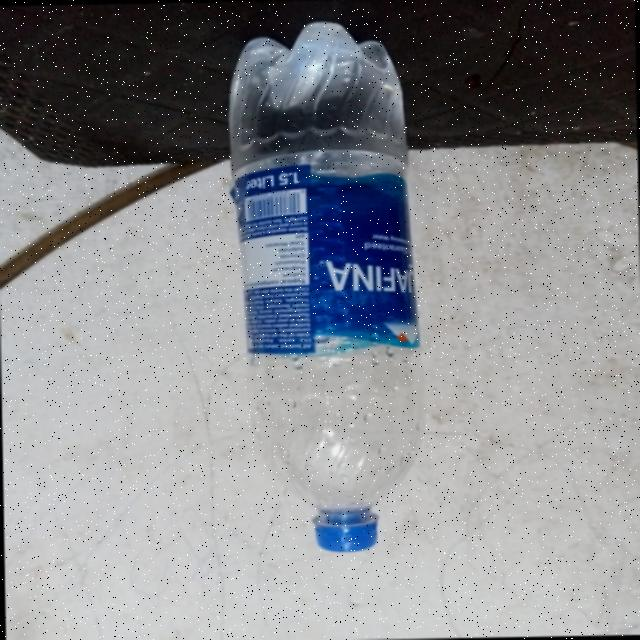bottle: (214, 14, 456, 578)
cap: (300, 499, 391, 552)
label: (216, 144, 439, 370)
